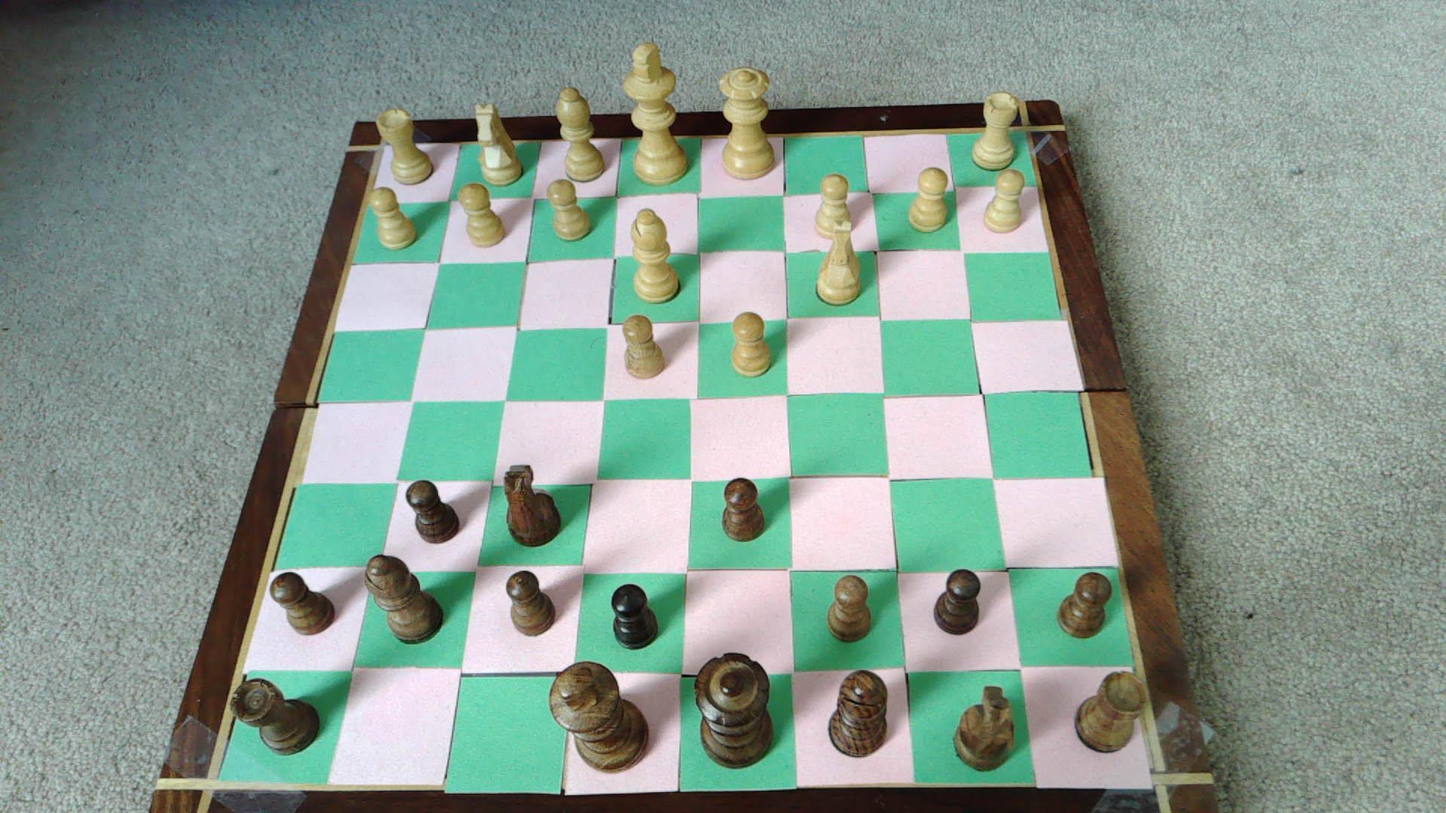dark_piece: (550, 662, 648, 771), (696, 652, 773, 765), (365, 555, 444, 642), (232, 678, 320, 753), (1075, 672, 1148, 752), (953, 686, 1013, 770), (829, 671, 886, 756), (503, 464, 560, 547), (270, 572, 334, 634), (1058, 572, 1112, 636), (406, 480, 459, 542), (504, 571, 553, 635), (612, 583, 659, 648), (934, 569, 980, 633), (827, 575, 871, 641), (723, 478, 765, 540)
white_piece: (621, 42, 690, 186), (720, 68, 777, 179), (554, 87, 605, 181), (631, 209, 680, 303), (377, 108, 435, 185), (473, 102, 523, 185), (972, 91, 1018, 170), (816, 228, 861, 304), (458, 184, 506, 247), (370, 187, 417, 250), (548, 179, 592, 241), (623, 315, 666, 378), (908, 167, 949, 232), (984, 169, 1025, 233), (731, 312, 771, 376), (815, 173, 853, 239)
